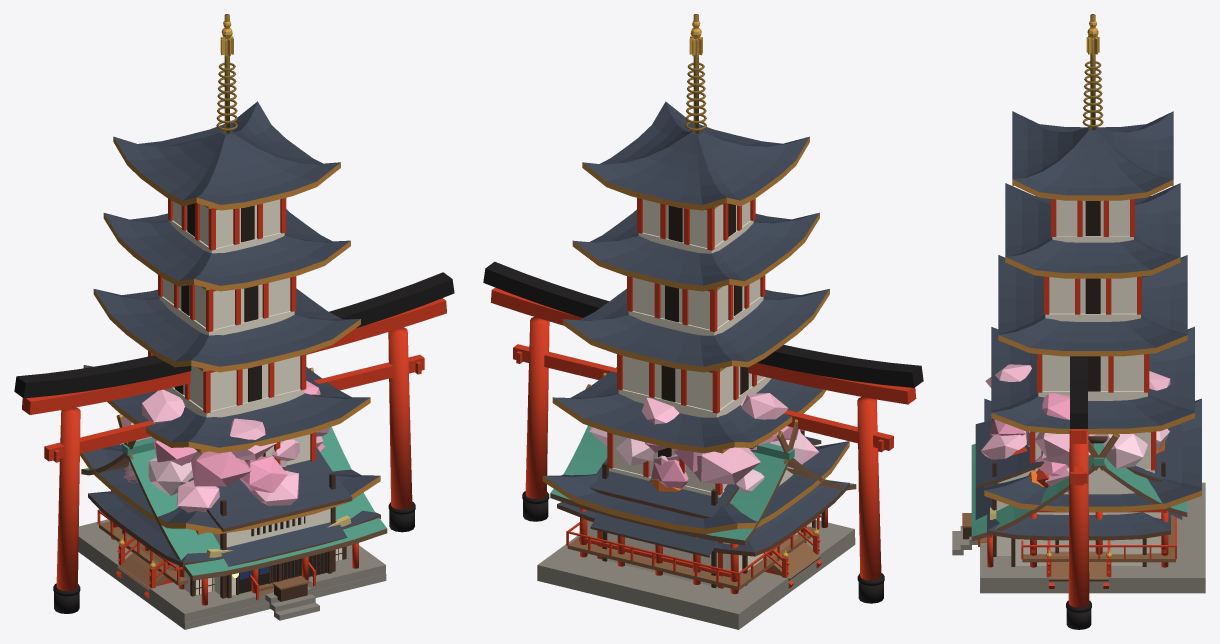
The model's file is sakura.glb.
3 views of the same model, side by side, from view 1: azimuth 30°, elevation 25°; view 2: azimuth 150°, elevation 25°; view 3: azimuth 270°, elevation 25° (orthographic). The views are drawn at different scales.
Parts seen in each view (by area): view 1: pagoda_a, torii_large_a, shrine_a, house_a, sakura_a, sakura_b, house_b, bridge_a; view 2: pagoda_a, torii_large_a, shrine_a, house_a, sakura_b, house_b, sakura_a, bridge_a; view 3: pagoda_a, shrine_a, torii_large_a, house_b, house_a, sakura_b, sakura_a, bridge_a, maple_a.
Part boxes in pixels (bbox=[...]): pagoda_a: bbox=[78, 14, 385, 629]; torii_large_a: bbox=[14, 272, 454, 613]; shrine_a: bbox=[78, 367, 387, 629]; house_a: bbox=[120, 447, 352, 598]; sakura_a: bbox=[129, 436, 325, 512]; sakura_b: bbox=[122, 380, 329, 486]; house_b: bbox=[88, 491, 380, 598]; bridge_a: bbox=[116, 537, 174, 598]; pagoda_a: bbox=[537, 14, 854, 629]; torii_large_a: bbox=[483, 261, 923, 603]; shrine_a: bbox=[550, 372, 856, 594]; house_a: bbox=[589, 431, 821, 588]; sakura_b: bbox=[589, 393, 804, 484]; house_b: bbox=[557, 481, 849, 585]; sakura_a: bbox=[616, 429, 818, 492]; bridge_a: bbox=[763, 527, 821, 588]; pagoda_a: bbox=[952, 14, 1205, 593]; shrine_a: bbox=[962, 432, 1195, 593]; torii_large_a: bbox=[1066, 356, 1091, 629]; house_b: bbox=[987, 512, 1170, 566]; house_a: bbox=[975, 418, 1182, 556]; sakura_b: bbox=[985, 364, 1170, 468]; sakura_a: bbox=[981, 419, 1169, 493]; bridge_a: bbox=[1046, 540, 1111, 588]; maple_a: bbox=[1012, 440, 1165, 487].
Bounding box in the file's own units: 25.69 × 31.2 × 13.5.
45 materials, 2 textured.
